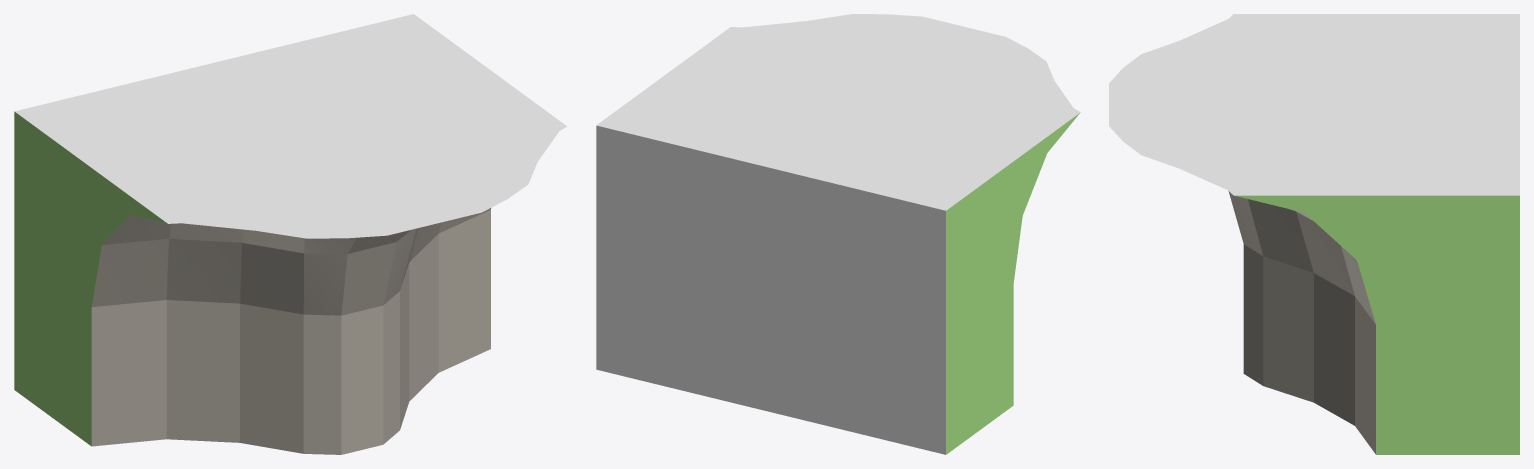
File: Wall_Straight_Deformed_Convex_3x3_Top.glb
3 renders of one model, left to right at view 1: azimuth 30°, elevation 25°; view 2: azimuth 150°, elevation 25°; view 3: azimuth 270°, elevation 25°, orthographic. The views are drawn at different scales.
Parts seen in each view (by area): view 1: Wall_Straight_Deformed_Convex_3x3_Top; view 2: Wall_Straight_Deformed_Convex_3x3_Top; view 3: Wall_Straight_Deformed_Convex_3x3_Top.
Boxes of the visible parts, x1,y1,x2,y2 form: Wall_Straight_Deformed_Convex_3x3_Top: (14, 14, 567, 454); Wall_Straight_Deformed_Convex_3x3_Top: (596, 14, 1080, 454); Wall_Straight_Deformed_Convex_3x3_Top: (1109, 14, 1519, 454).
Size of the model in its own units: 300 by 200 by 287.
